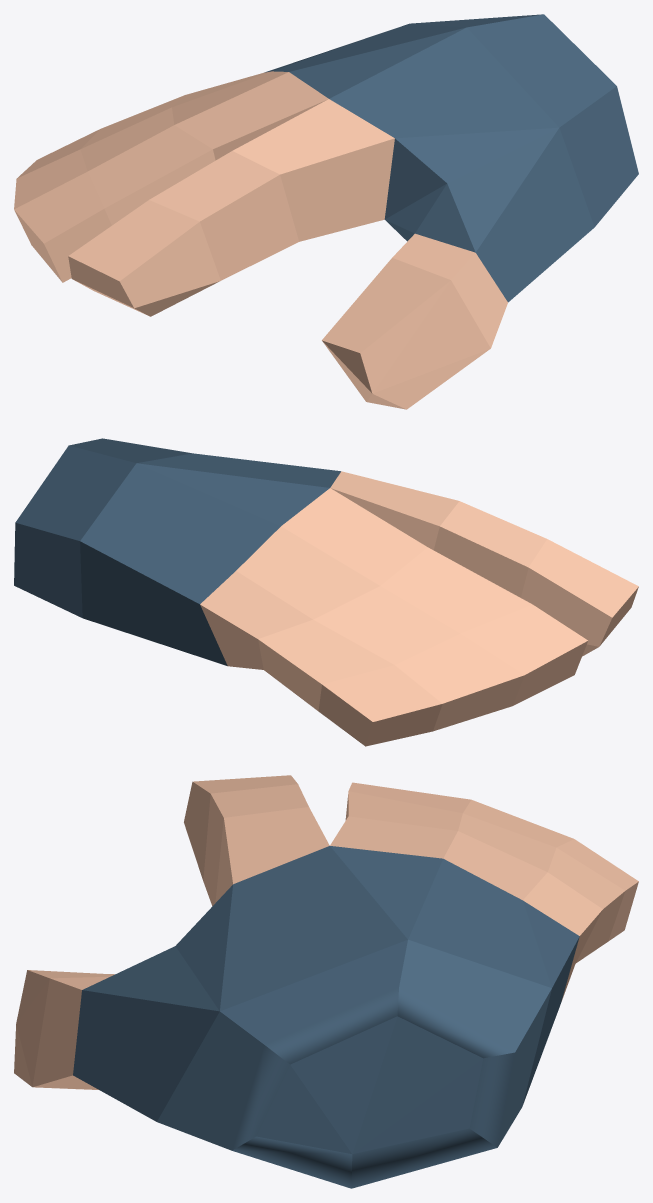
File: Chr_HandRight_Male_08_Static.fbx
3 renders of one model, top to bottom at view 1: azimuth 30°, elevation 25°; view 2: azimuth 150°, elevation 25°; view 3: azimuth 270°, elevation 25°, orthographic. The views are drawn at different scales.
Visible parts, largest first — view 1: Chr_HandRight_Male_08_Static; view 2: Chr_HandRight_Male_08_Static; view 3: Chr_HandRight_Male_08_Static.
Boxes of the visible parts, x1,y1,x2,y2 form: Chr_HandRight_Male_08_Static: (14, 14, 638, 409); Chr_HandRight_Male_08_Static: (14, 438, 638, 746); Chr_HandRight_Male_08_Static: (14, 775, 638, 1188).
Bounding box in the file's own units: 0.237 × 0.0952 × 0.188.
